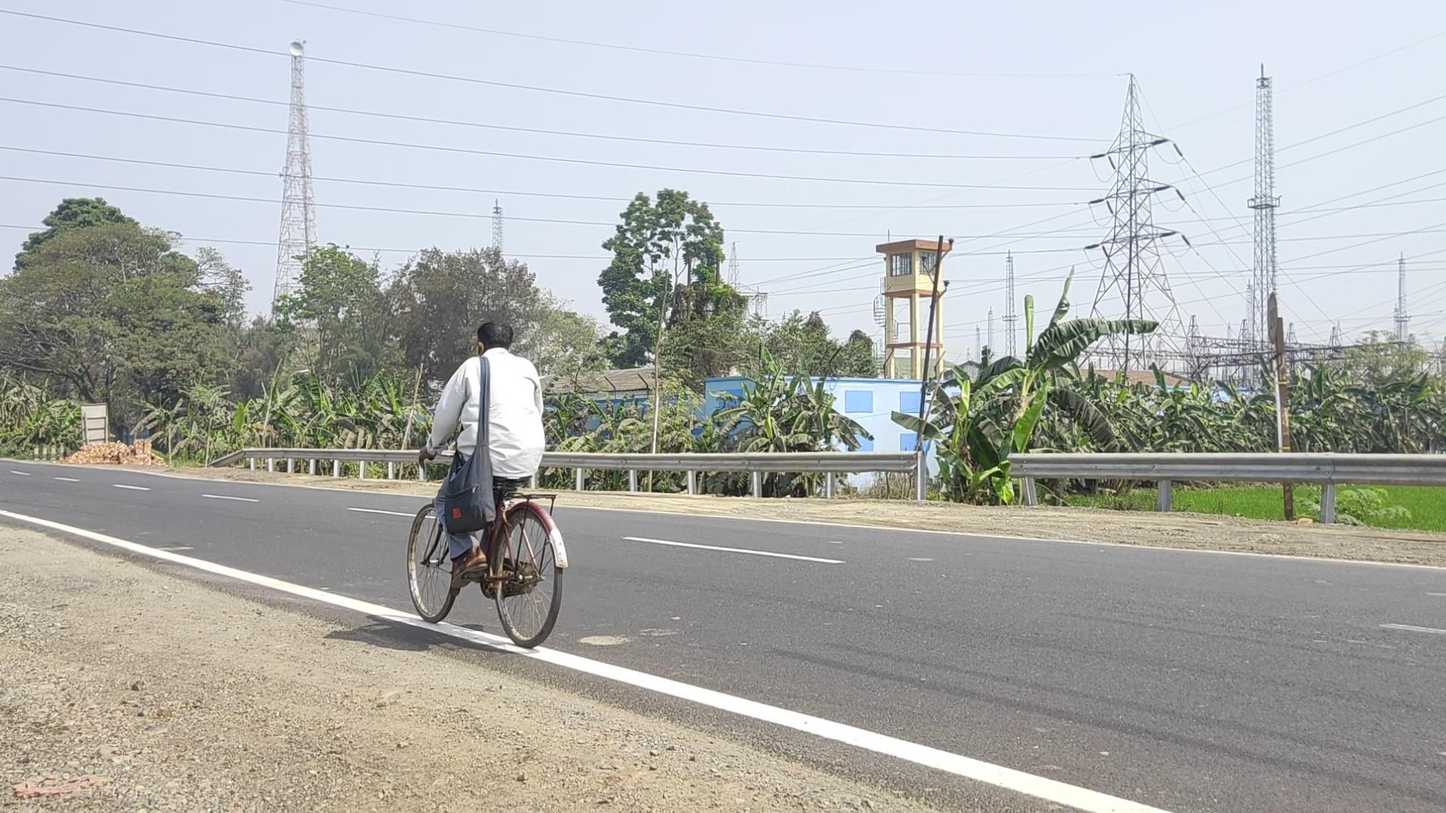bike: (406, 321, 569, 649)
